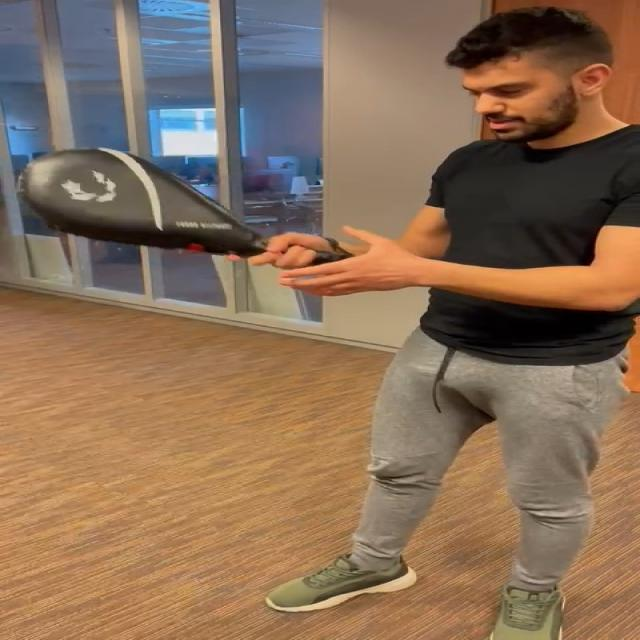paddle: (36, 152, 259, 256)
